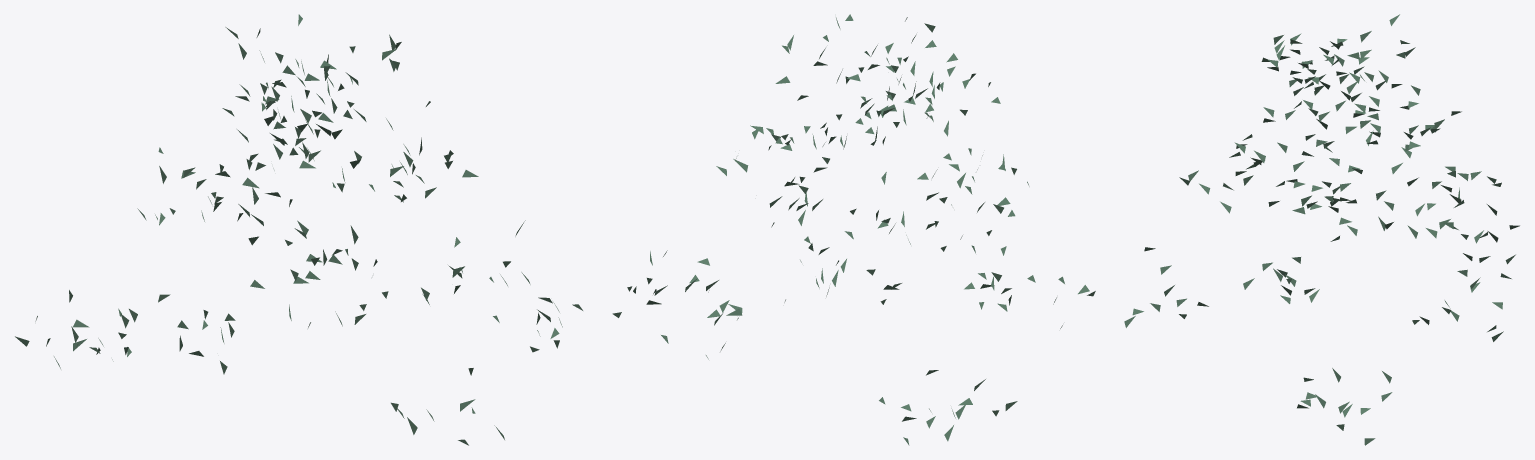
Rendered from teaching3-vegetation-09-far.glb.
3 views of the same model, side by side, from view 1: azimuth 30°, elevation 25°; view 2: azimuth 150°, elevation 25°; view 3: azimuth 270°, elevation 25° (orthographic). The views are drawn at different scales.
Visible parts, largest first — view 1: vegetation cedar leaves.003; view 2: vegetation cedar leaves.003; view 3: vegetation cedar leaves.003.
Part boxes in pixels (box(x1,y1,x2,y2)): vegetation cedar leaves.003: box(15, 14, 582, 445); vegetation cedar leaves.003: box(612, 14, 1095, 445); vegetation cedar leaves.003: box(1124, 14, 1519, 445).
Bounding box in the file's own units: 11.32 × 8 × 9.48.
